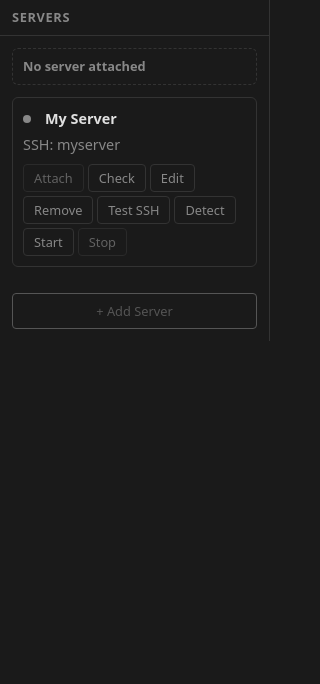
Test: cancel edit discards changes
Expected: the element with test id "server-card-ssh-1" is shown, [12, 97, 257, 267]
Click the button with test id "edit-ssh-1": coordinates (172, 178) [150, 164, 195, 192]
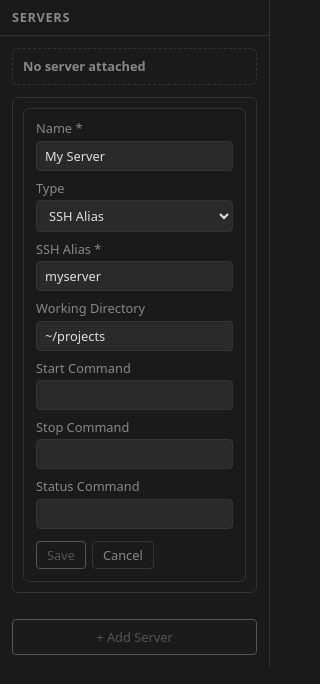
Expected: the form with test id "edit-form-ssh-1" is shown, [23, 108, 246, 582]
Replace the text in the field with test id "edit-name-ssh-1" with "Changed": coordinates (134, 156) [36, 141, 233, 171]
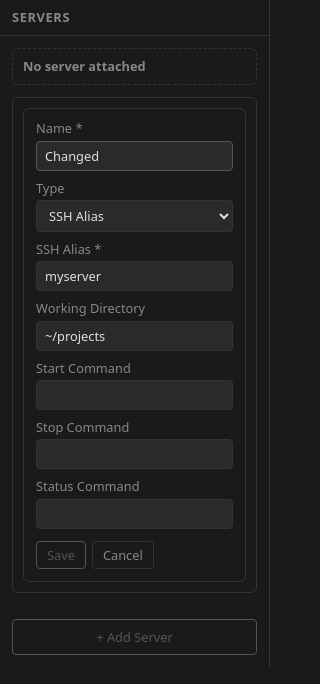
Click the button with test id "edit-cancel-ssh-1": coordinates (123, 555) [92, 541, 154, 569]
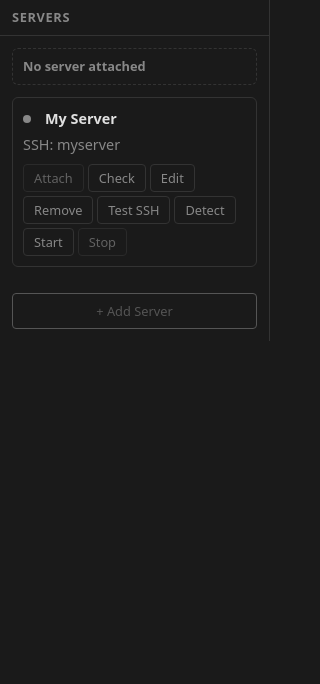
Expected: the heading "My Server" is shown, [45, 109, 117, 128]
